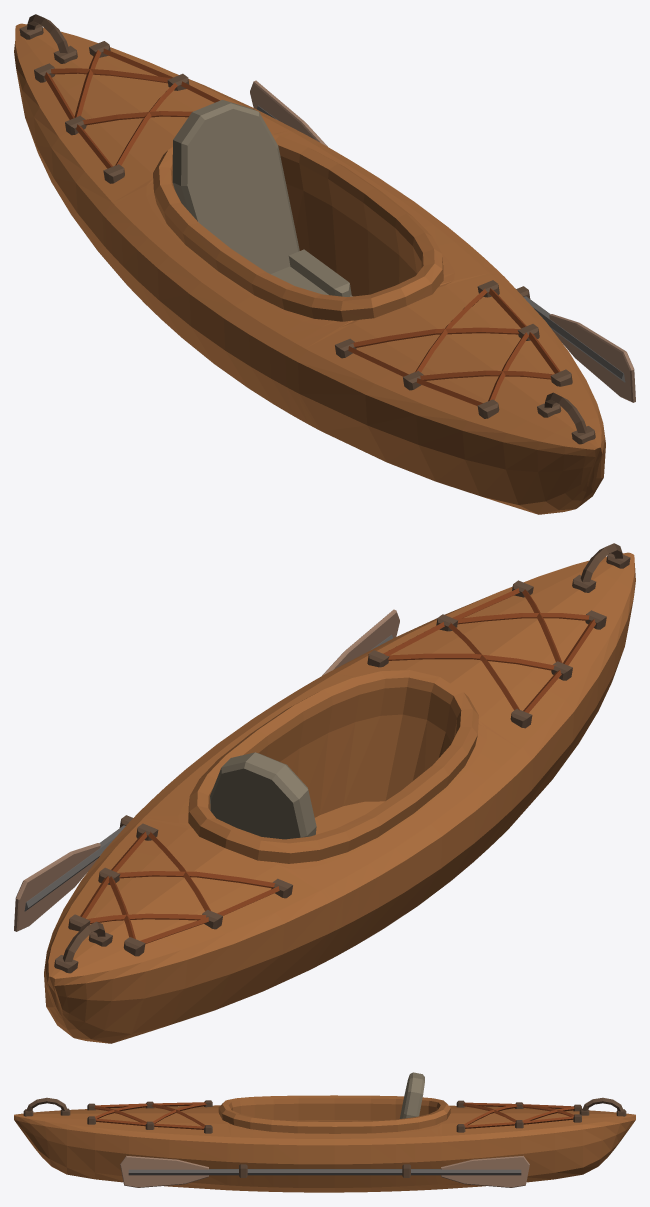
The model's file is lake-kayak-930d0b.glb.
The picture shows the model from 3 angles, top to bottom: view 1: azimuth 30°, elevation 25°; view 2: azimuth 150°, elevation 25°; view 3: azimuth 270°, elevation 25°; orthographic projection. The views are drawn at different scales.
Parts seen in each view (by area): view 1: kayak-hull, paddle-mesh; view 2: kayak-hull, paddle-mesh; view 3: kayak-hull, paddle-mesh.
Boxes of the visible parts, bbox=[...] form: kayak-hull: bbox=[14, 14, 605, 514]; paddle-mesh: bbox=[250, 80, 635, 402]; kayak-hull: bbox=[44, 543, 635, 1043]; paddle-mesh: bbox=[14, 609, 399, 931]; kayak-hull: bbox=[14, 1072, 635, 1192]; paddle-mesh: bbox=[120, 1155, 529, 1187].
Bounding box in the file's own units: 0.8108 × 0.6058 × 3.2.
